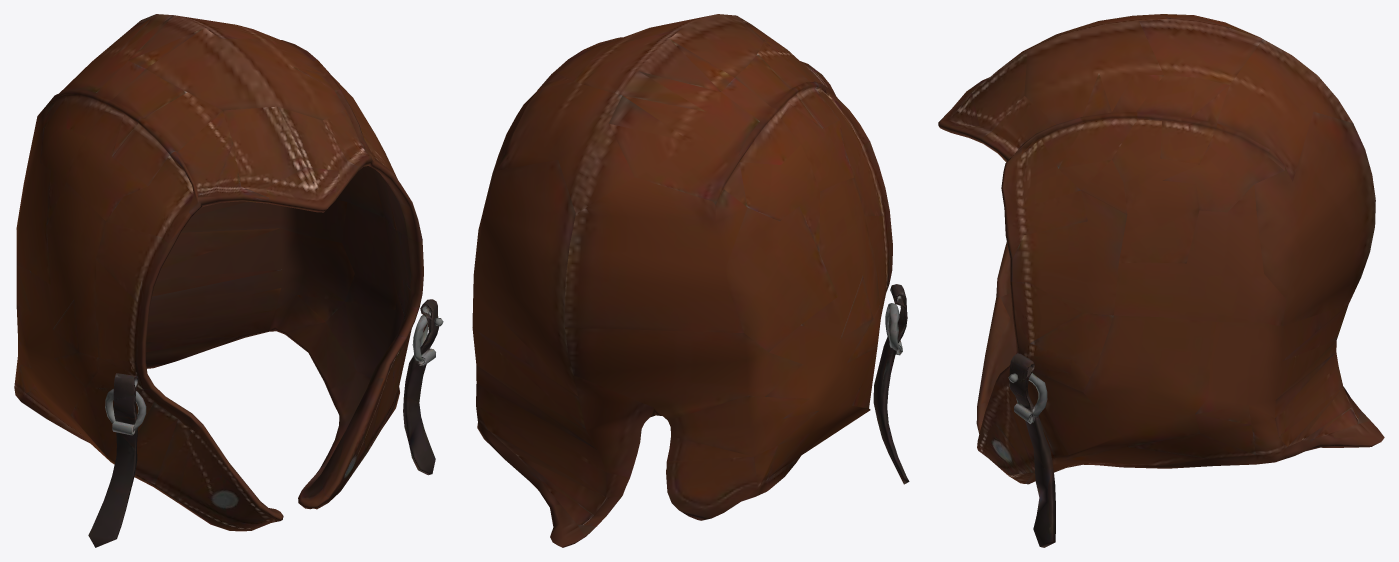
The model's file is leather_helm.glb.
The picture shows the model from 3 angles, left to right: view 1: azimuth 30°, elevation 25°; view 2: azimuth 150°, elevation 25°; view 3: azimuth 270°, elevation 25°; orthographic projection. The views are drawn at different scales.
Size of the model in its own units: 0.7793 by 0.9526 by 0.8599.
Materials: 1 (1 with a texture image).
